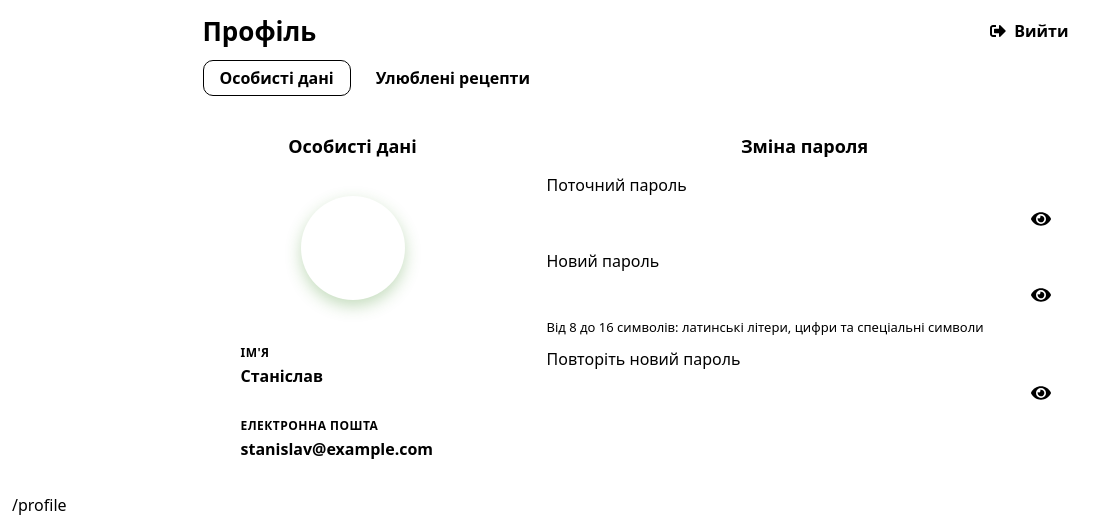
Test case: ProfilePage: logout button › locks button while logging out
Click the button "Вийти" at (1029, 31), box x1=972 y1=12 x2=1086 y2=50
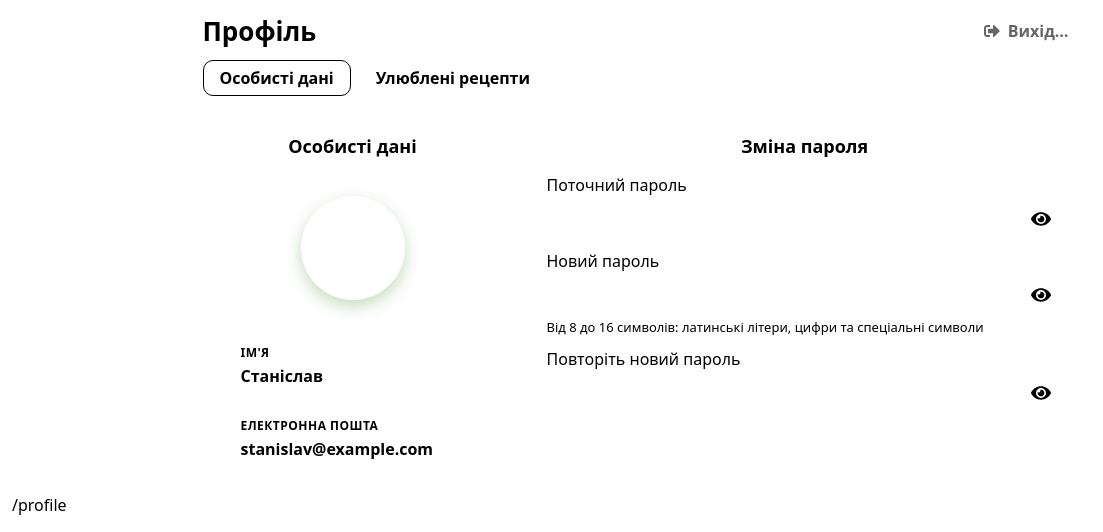
Expected: the button "Вихід…" is disabled, x1=966 y1=12 x2=1086 y2=50
